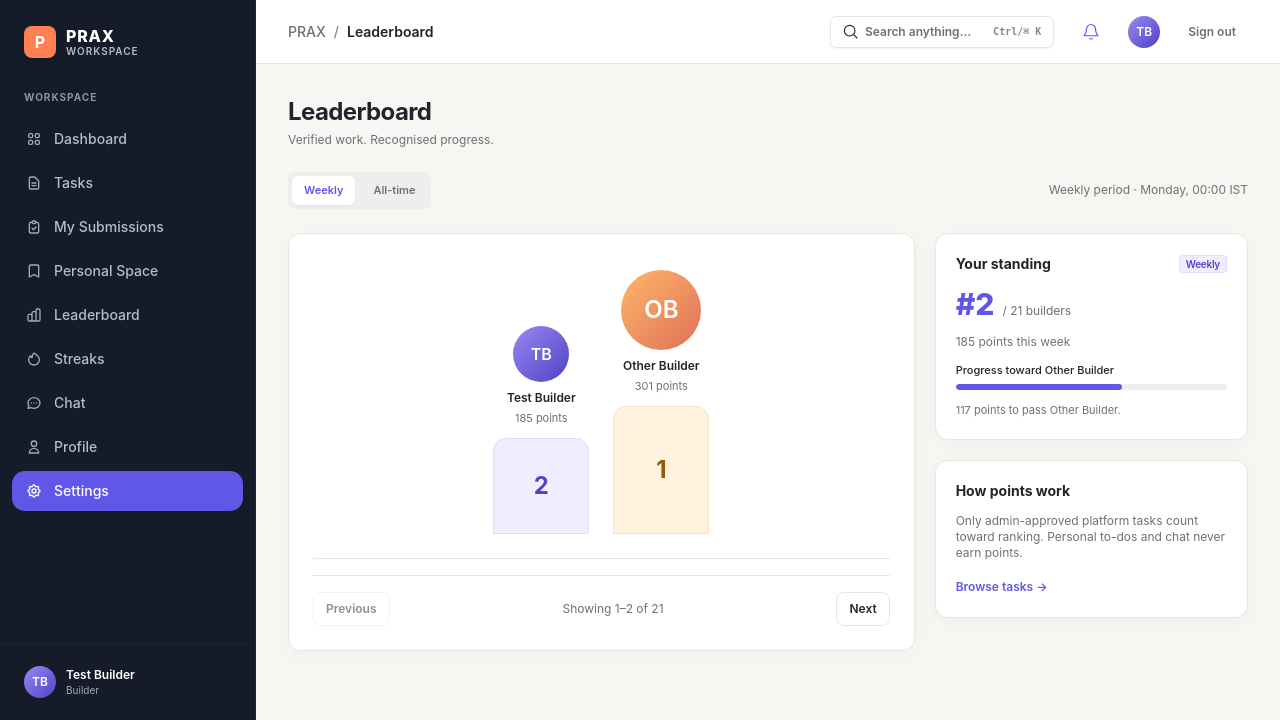
Test case: functional member controls › keeps the current user's standing available while paging leaderboard entries
Click the button "Next": click(863, 609) [836,592,890,626]
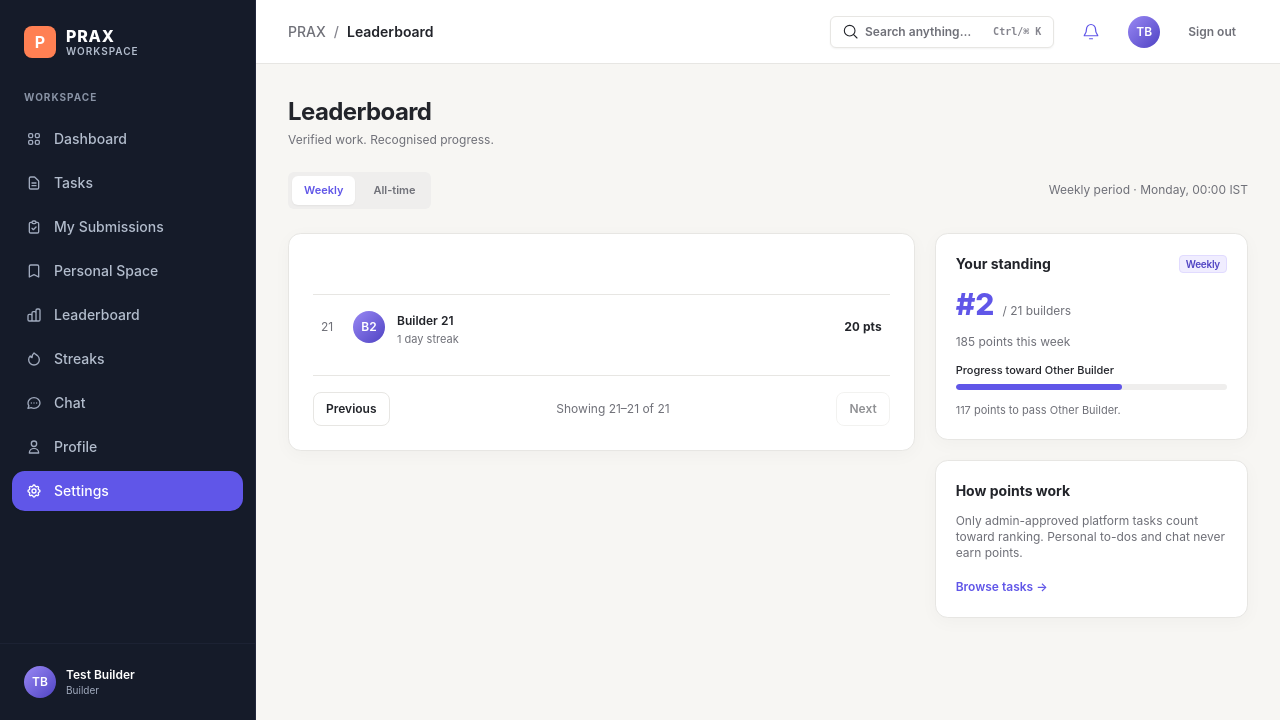
Expected: the text "#2" is shown, [956,286,1071,322]
Expected: the link "Builder 21" is shown, [397,312,454,328]
Expected: the text "Showing 21–21 of 21" is shown, [556,401,670,417]
